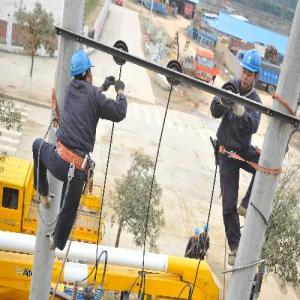blue: (239, 47, 262, 92), (71, 51, 94, 89), (195, 227, 202, 240), (204, 226, 210, 236)
